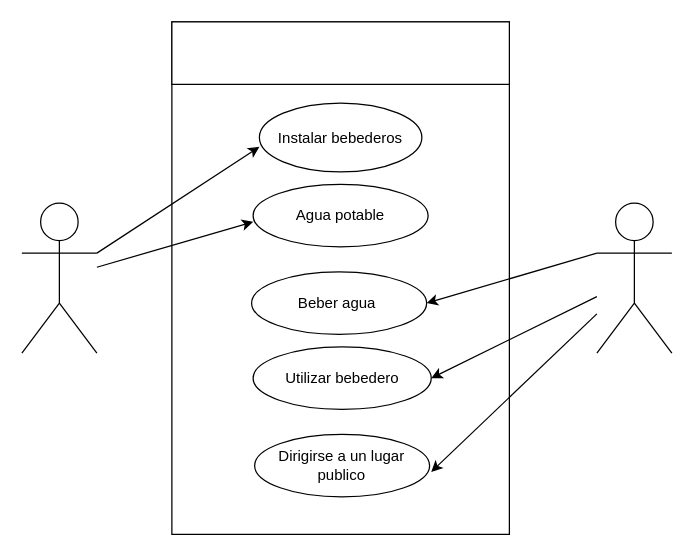
Image size: 694x556. Some labels were removed from this diagram. The shapes that lost their labels are listed below. From the top down, each one's centre as x and y in pixels, then its label:
At [340,52]: "Bebederos de agua en el municipio de zarzal".
At [59,277]: "Supervisor".
At [634,277]: "Usuario".
